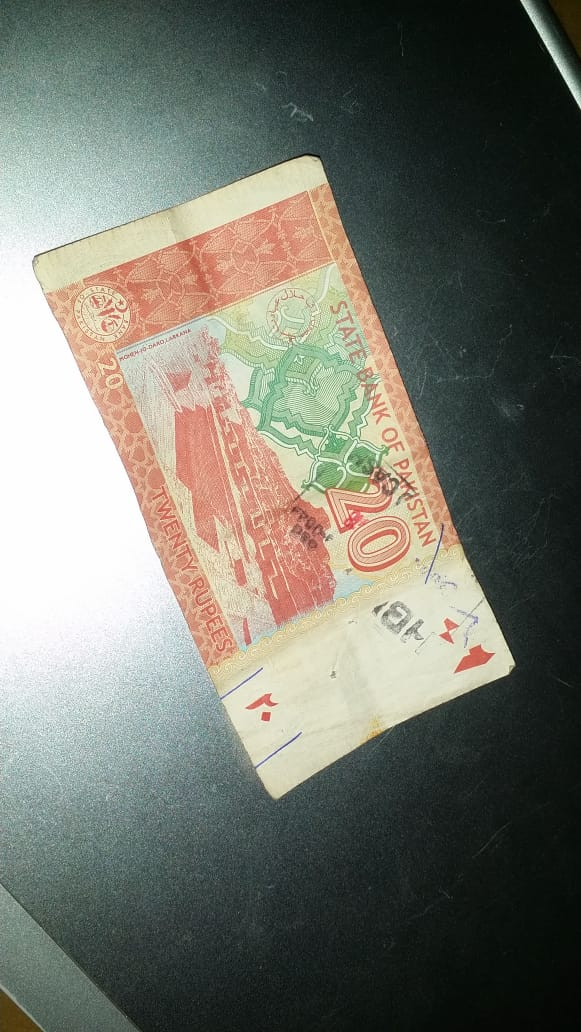20 rupee: (40, 132, 517, 828)
